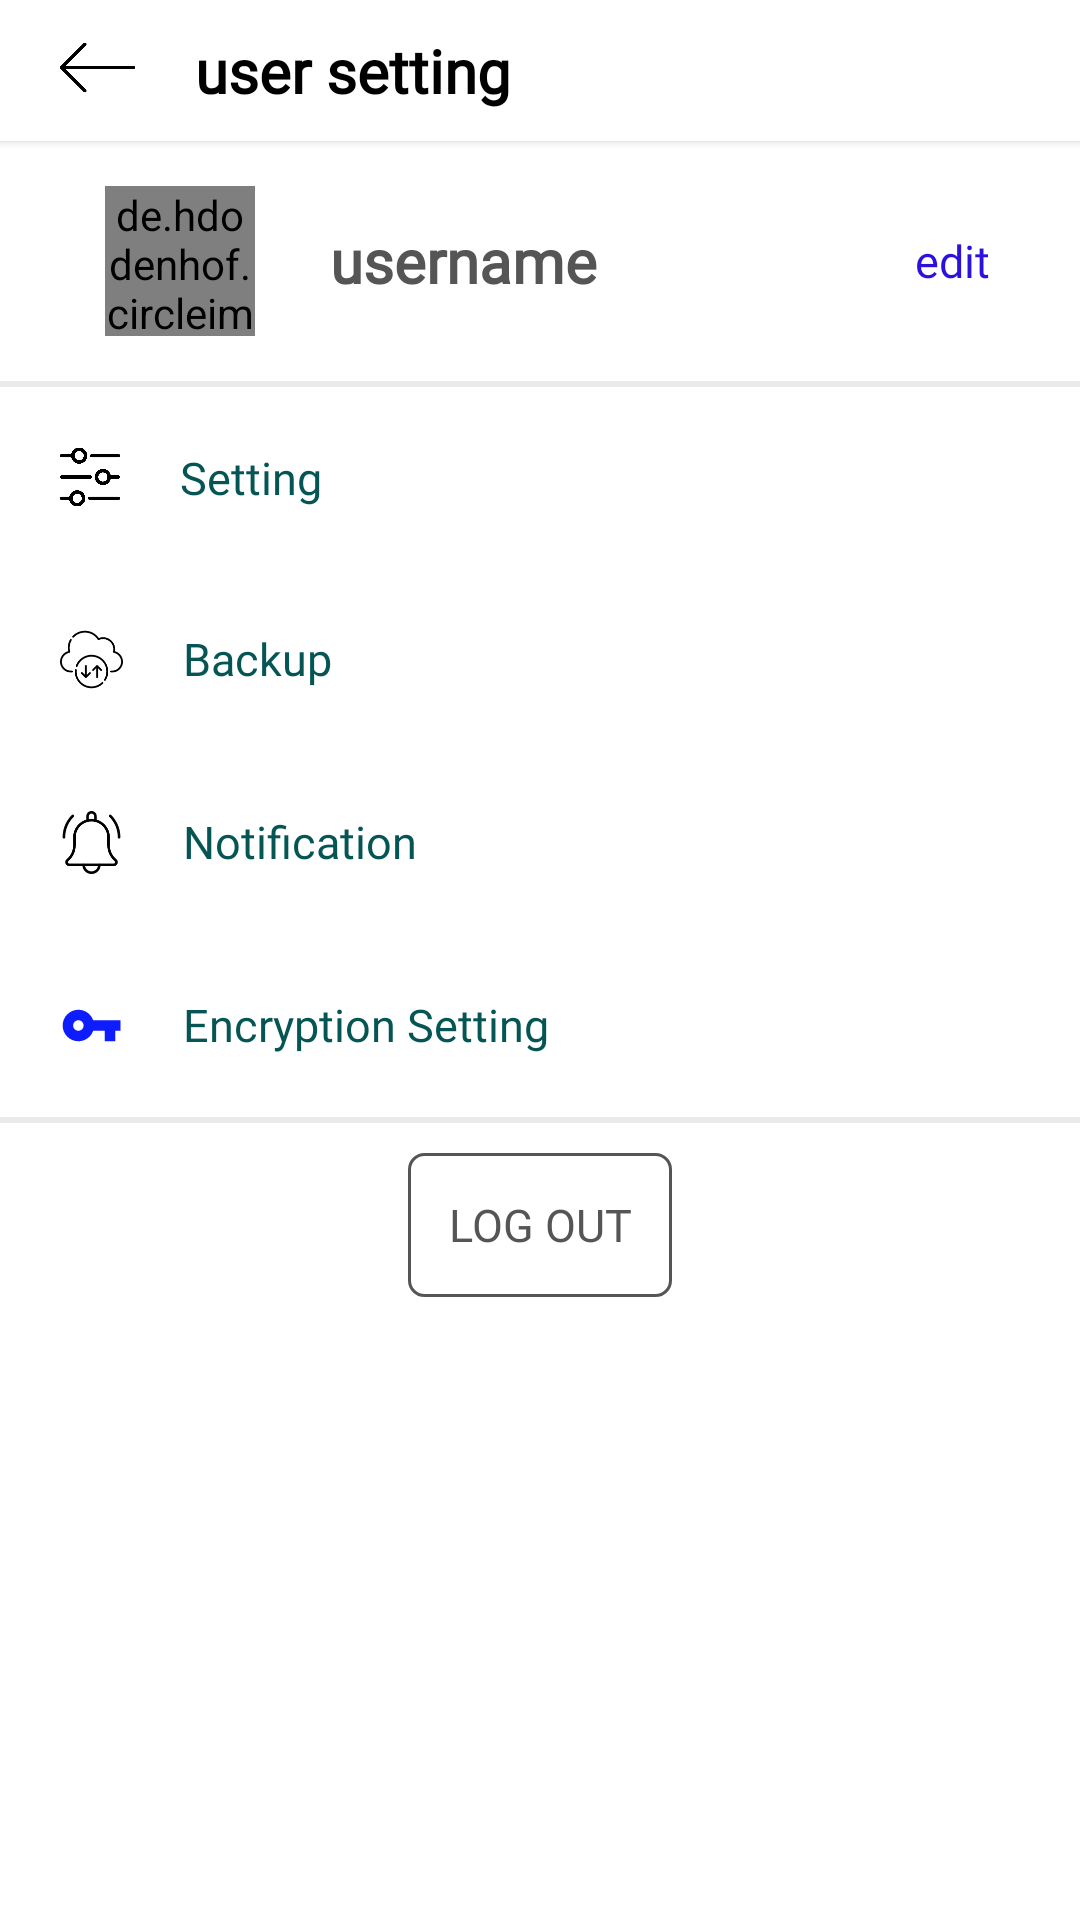

Icon click points for this 1080px×1920px phone screenshot, format point (x, y):
left: point (97, 67)
